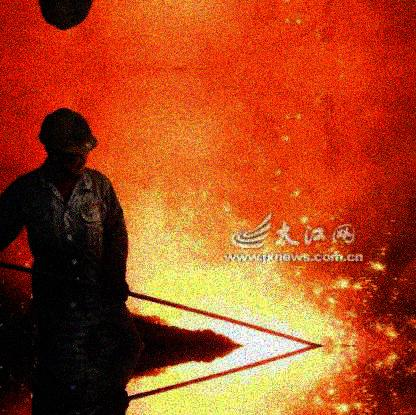helmet: (38, 109, 97, 178)
